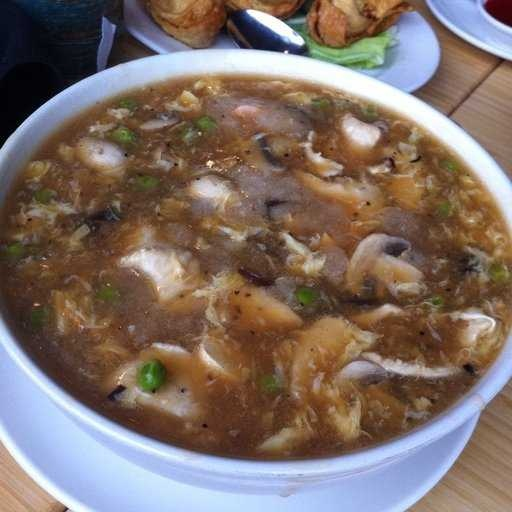soup: (1, 64, 498, 470)
